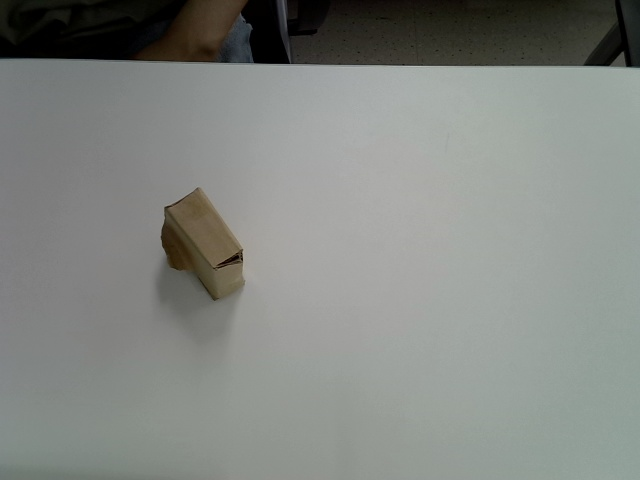defect: (161, 186, 245, 302)
